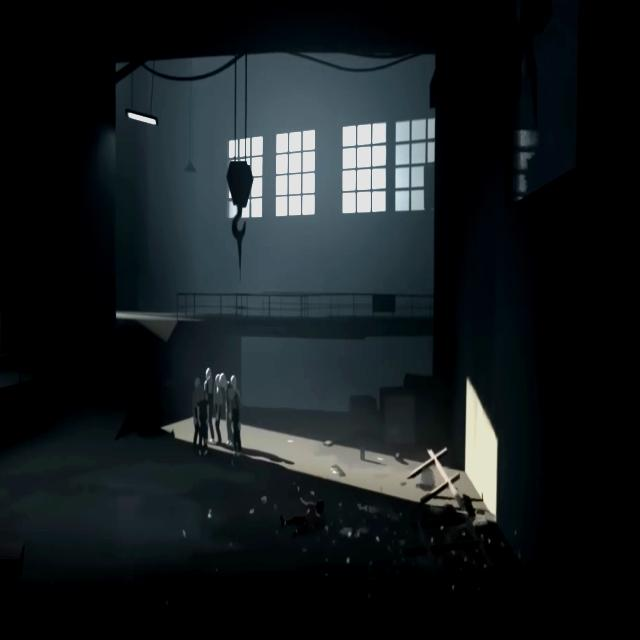boy: (279, 494, 329, 548)
